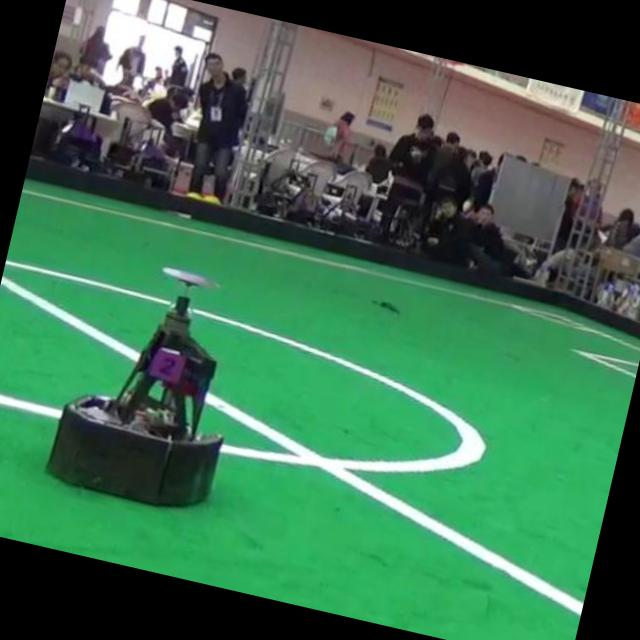robot: (46, 268, 222, 507)
